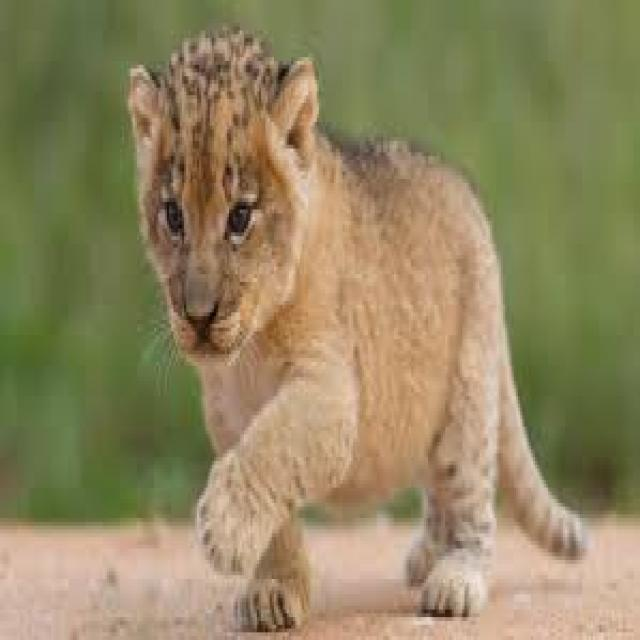Lion: (128, 23, 588, 635)
